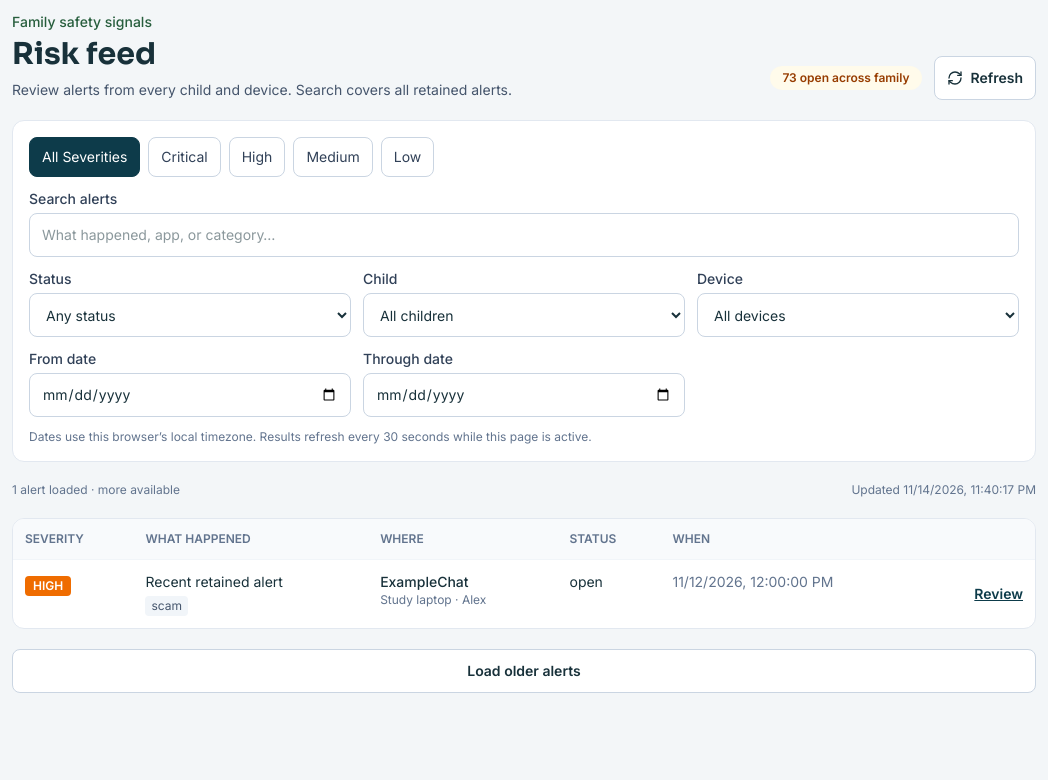
Test: complete risk history › follows the server cursor and shows the global open count
Check: the text "73 open across family" is shown, box x1=770 y1=66 x2=922 y2=90
What coordinates should you click on to do the following:
click the button "Load older alerts"
I would click on:
 (524, 671)
Its box is x1=12 y1=649 x2=1036 y2=693.
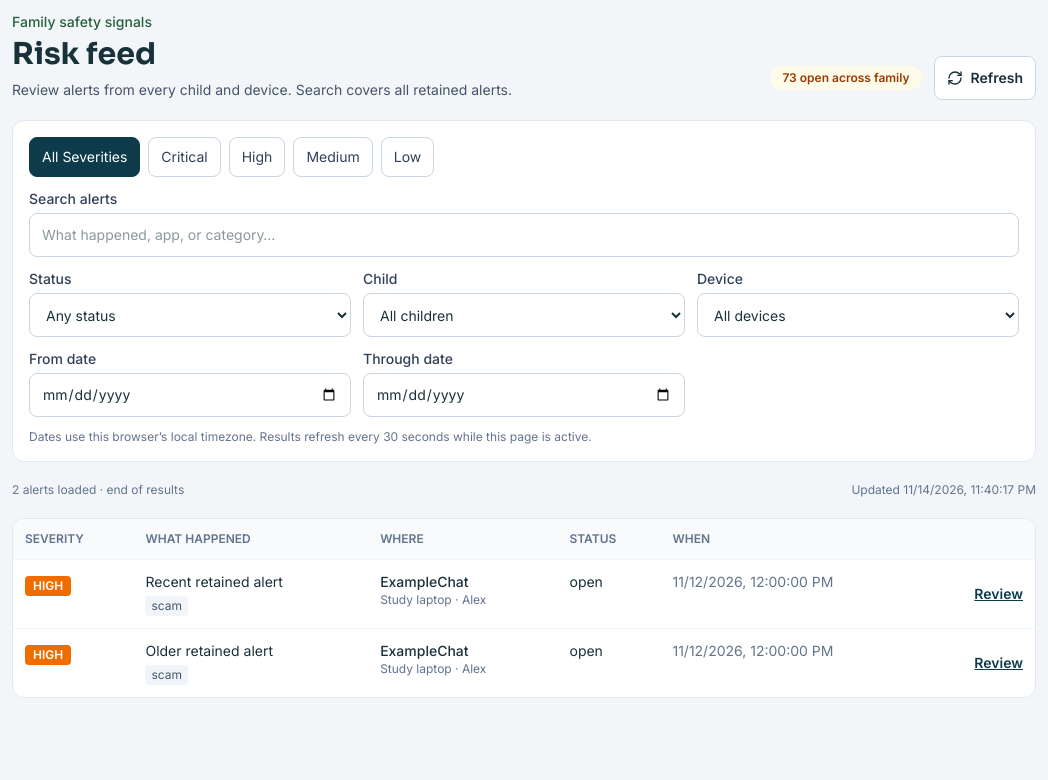
Check: the text "Recent retained alert" is shown, box x1=145 y1=573 x2=283 y2=590
Check: the text "Older retained alert" is shown, box x1=145 y1=642 x2=273 y2=659
Check: the button "Load older alerts" is gone
